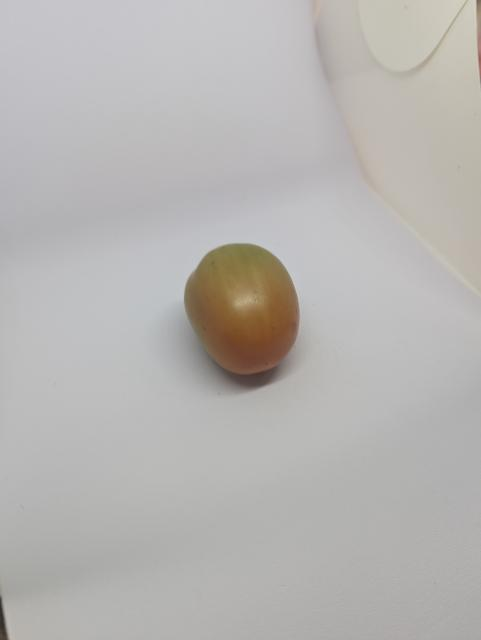turning: (183, 242, 310, 381)
